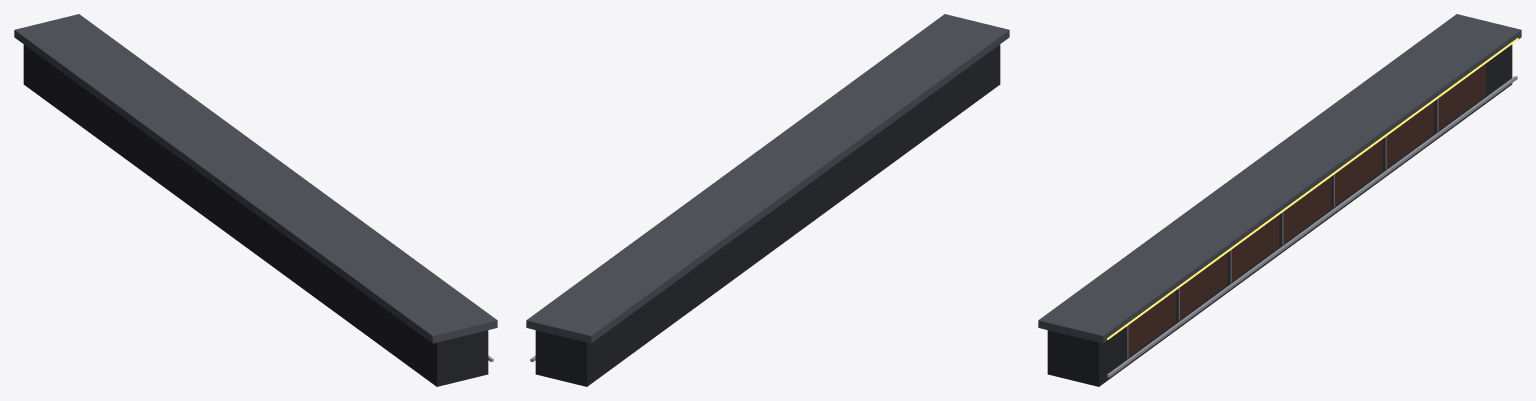
File: bar_counter.glb
3 renders of one model, left to right at view 1: azimuth 30°, elevation 25°; view 2: azimuth 150°, elevation 25°; view 3: azimuth 330°, elevation 25°, orthographic.
Parts seen in each view (by area): view 1: bar_counter; view 2: bar_counter; view 3: bar_counter.
Boxes of the visible parts, bbox=[...] form: bar_counter: bbox=[14, 14, 497, 386]; bar_counter: bbox=[526, 14, 1009, 386]; bar_counter: bbox=[1038, 14, 1521, 386].
Bounding box in the file's own units: 1.47 × 1.16 × 16.2.
